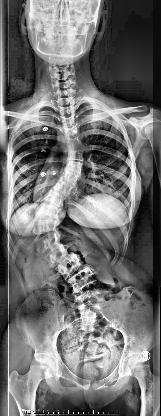Vertebrae: (68, 266, 96, 296), (56, 254, 84, 280), (34, 232, 60, 252), (44, 245, 66, 268), (35, 204, 61, 218), (36, 219, 58, 235), (43, 188, 65, 204), (52, 181, 72, 195), (60, 171, 80, 185), (65, 161, 83, 173), (66, 150, 84, 162), (58, 106, 76, 118), (66, 138, 82, 150), (64, 128, 80, 140), (62, 118, 78, 128)
